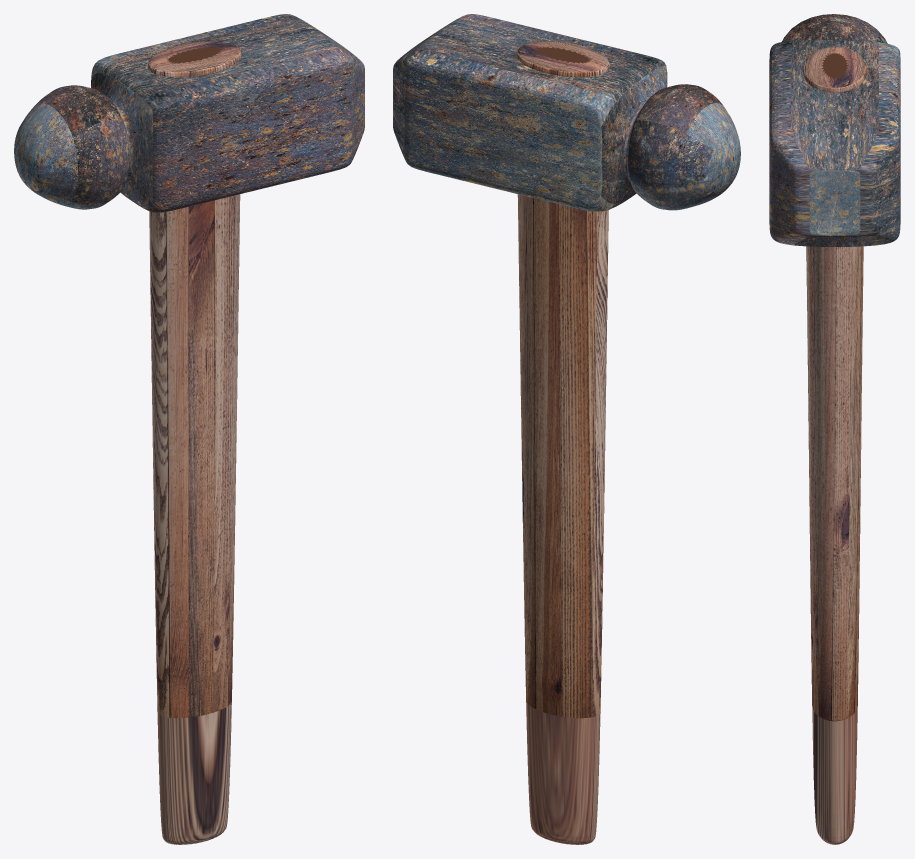
Rendered from Hammer.obj.
3 views of the same model, side by side, from view 1: azimuth 30°, elevation 25°; view 2: azimuth 150°, elevation 25°; view 3: azimuth 270°, elevation 25° (orthographic).
Parts seen in each view (by area): view 1: Cube; view 2: Cube; view 3: Cube.
Boxes of the visible parts, x1,y1,x2,y2 form: Cube: (14, 14, 364, 844); Cube: (393, 14, 740, 844); Cube: (769, 14, 900, 844).
Bounding box in the file's own units: 4.3 × 9.96 × 1.54.
3 materials, 3 textured.
